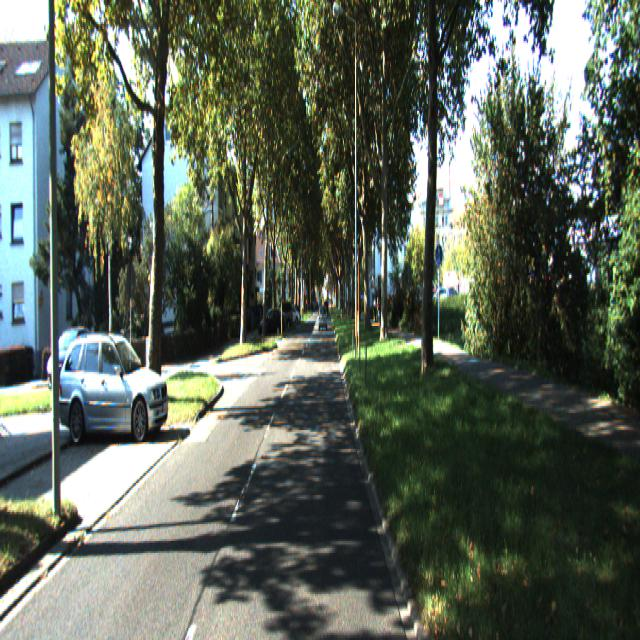Car: (54, 332, 173, 443)
